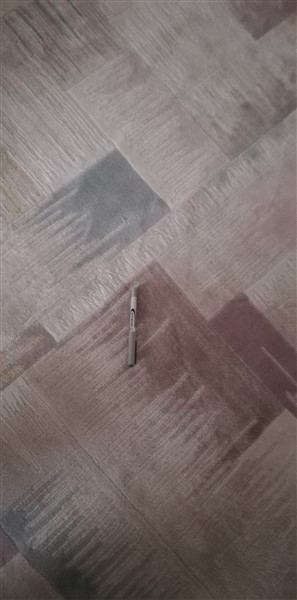pilot kalem: (123, 287, 142, 370)
